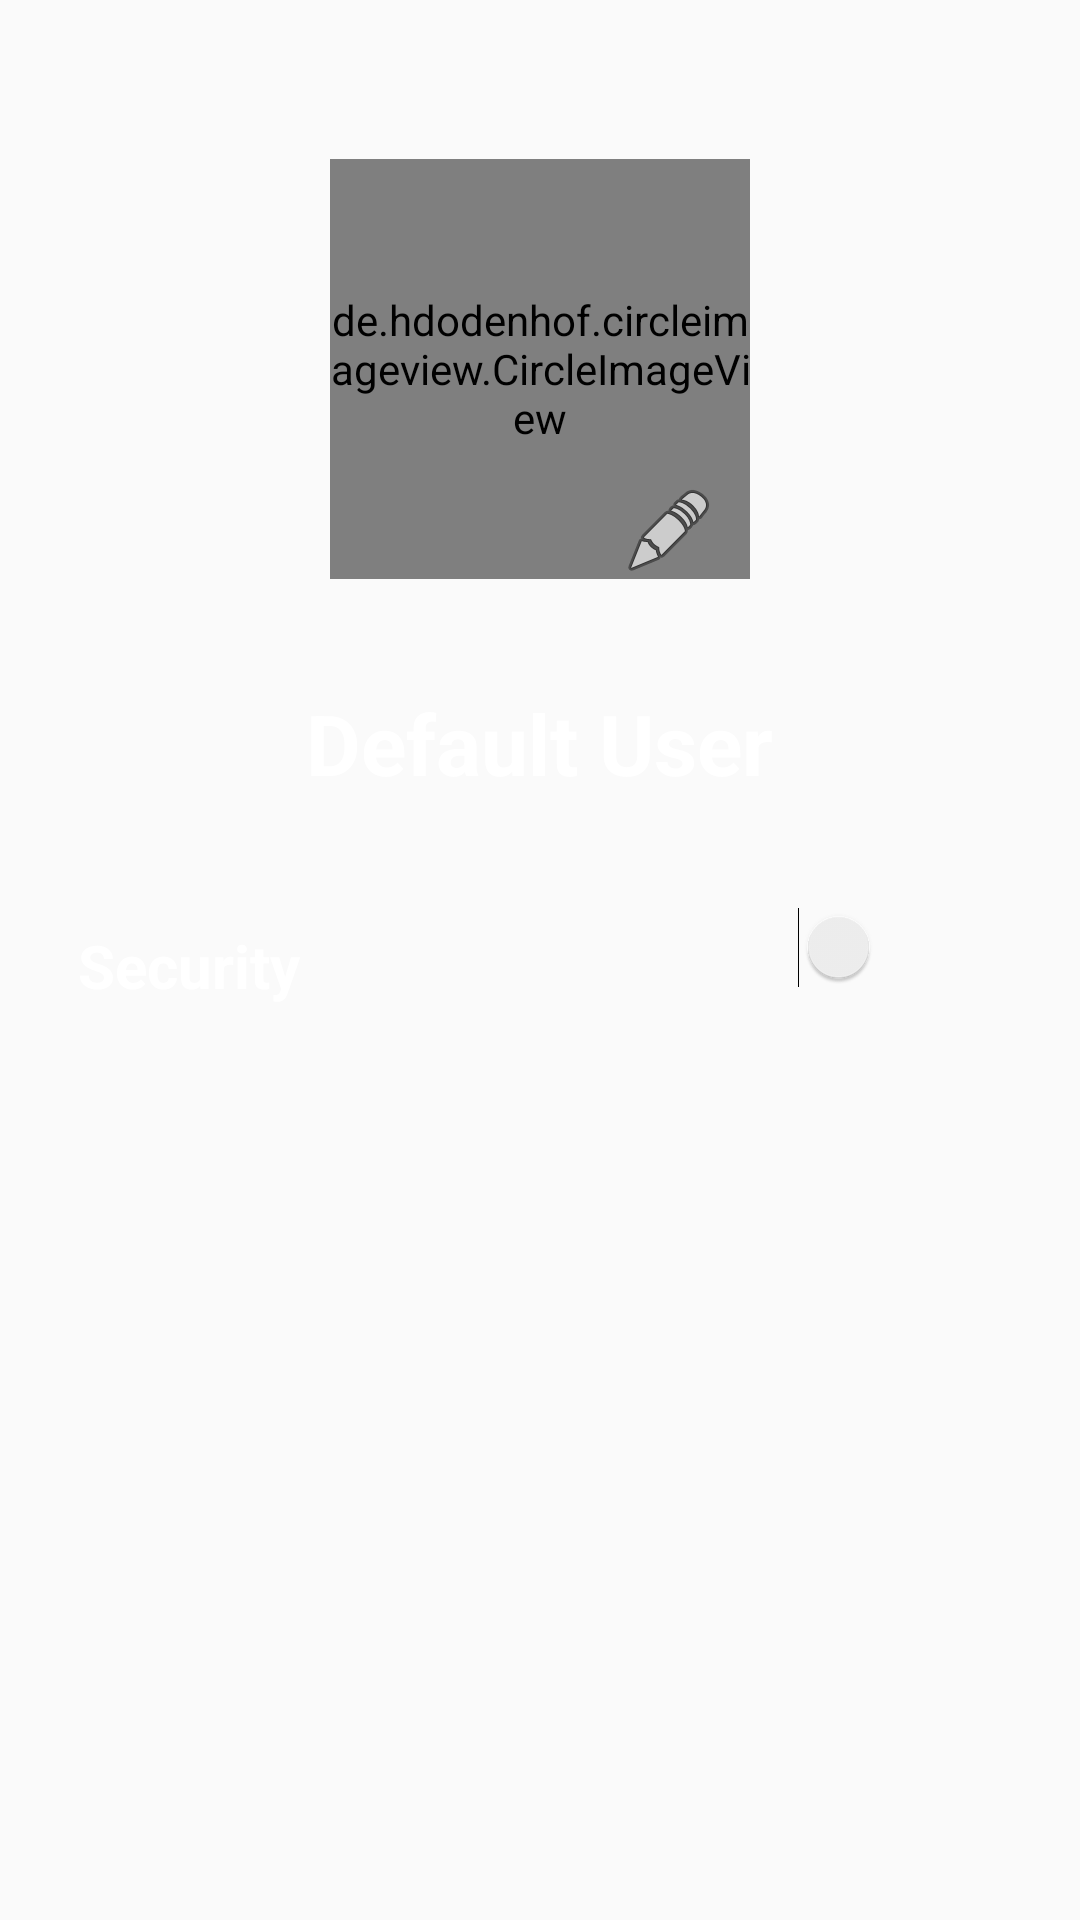

Icons on this 1080 x 1920 Android screen, each with the point to tap as (x=x, y=y):
edit: (x=668, y=530)
